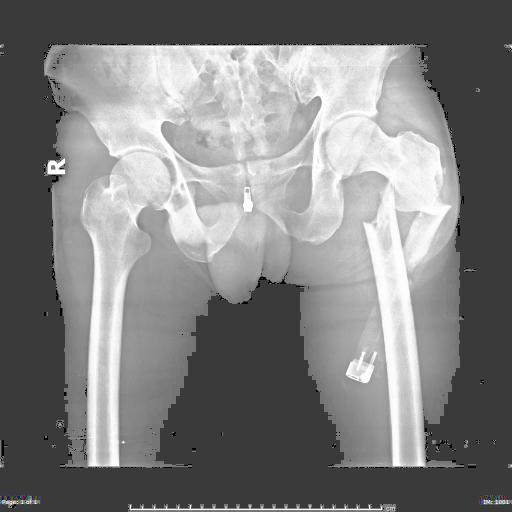normal: (80, 151, 170, 330)
subtrochanteric: (326, 116, 452, 216), (363, 179, 411, 311)
